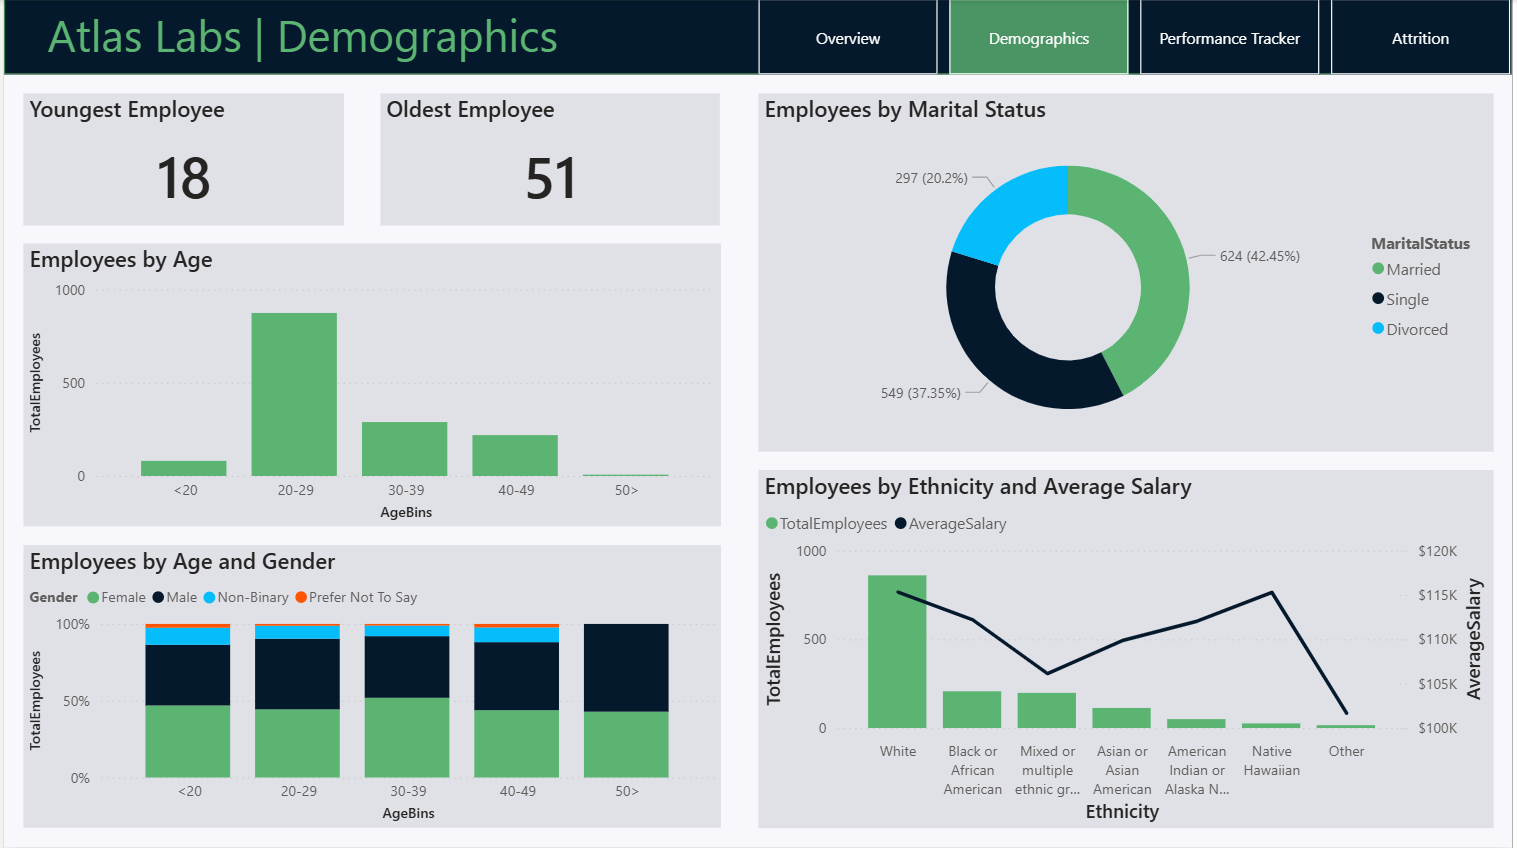

The page's visual inventory and layout, read from the dashboard file:
{"tool":"powerbi","page":{"name":"Demographics","canvas":[1280,720],"ordinal":1},"visuals":[{"type":"card","title":"Youngest Employee","fields":{"Values":["Sum(DimEmployee.Age)"]},"box":[16,80,272,112],"z":0},{"type":"card","title":"Oldest Employee","fields":{"Values":["Sum(DimEmployee.Age)"]},"box":[320,80,288,112],"z":1000},{"type":"columnChart","title":"Employees by Age","fields":{"Category":["DimEmployee.AgeBins"],"Y":["_Measures.TotalEmployees"]},"box":[16,208,592,240],"z":2000},{"type":"hundredPercentStackedColumnChart","title":"Employees by Age and Gender","fields":{"Category":["DimEmployee.AgeBins"],"Series":["DimEmployee.Gender"],"Y":["_Measures.TotalEmployees"]},"box":[16,464,592,240],"z":3000},{"type":"donutChart","title":"Employees by Marital Status","fields":{"Category":["DimEmployee.MaritalStatus"],"Y":["_Measures.TotalEmployees"]},"box":[640,80,624,304],"z":4000},{"type":"lineStackedColumnComboChart","title":"Employees by Ethnicity and Average Salary","fields":{"Category":["DimEmployee.Ethnicity"],"Y":["_Measures.TotalEmployees"],"Y2":["_Measures.AverageSalary"]},"box":[640,400,624,304],"z":5000},{"type":"shape","box":[0,0,1280,64],"z":6000},{"type":"textbox","box":[32,0,624,64],"z":7000},{"type":"pageNavigator","box":[640,0,640,64],"z":8000}]}

Visuals, with their boxes in screenshot pixels (x1, y1, x2, y2), scaled from the page's 1280x720 canvas onto the 1517x848 screenshot:
"Youngest Employee" card: box(19, 94, 341, 226)
"Oldest Employee" card: box(379, 94, 721, 226)
"Employees by Age" columnChart: box(19, 245, 721, 528)
"Employees by Age and Gender" hundredPercentStackedColumnChart: box(19, 546, 721, 829)
"Employees by Marital Status" donutChart: box(758, 94, 1498, 452)
"Employees by Ethnicity and Average Salary" lineStackedColumnComboChart: box(758, 471, 1498, 829)
shape: box(0, 0, 1516, 75)
textbox: box(38, 0, 777, 75)
pageNavigator: box(758, 0, 1516, 75)
